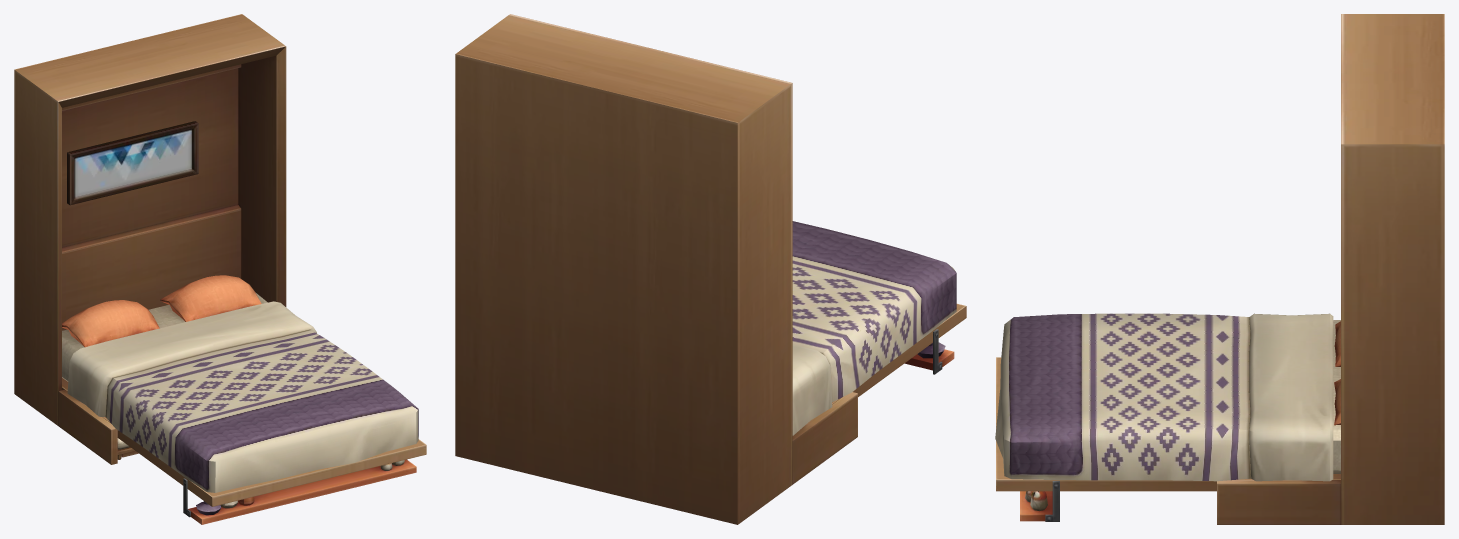
Rendered from tiny_murphy_bed.glb.
3 renders of one model, left to right at view 1: azimuth 30°, elevation 25°; view 2: azimuth 150°, elevation 25°; view 3: azimuth 270°, elevation 25°, orthographic. The views are drawn at different scales.
Parts seen in each view (by area): view 1: Object_4, Object_8; view 2: Object_4, Object_8; view 3: Object_4, Object_8.
Boxes of the visible parts, left/top/right/bottom form: Object_4: left=14, top=14, right=426, bottom=524; Object_8: left=62, top=275, right=418, bottom=492; Object_4: left=455, top=14, right=966, bottom=524; Object_8: left=792, top=221, right=956, bottom=435; Object_4: left=996, top=14, right=1444, bottom=524; Object_8: left=995, top=313, right=1340, bottom=481.
Size of the model in its own units: 2.57 by 3.5 by 3.74.
Materials: 2 (2 with a texture image).
